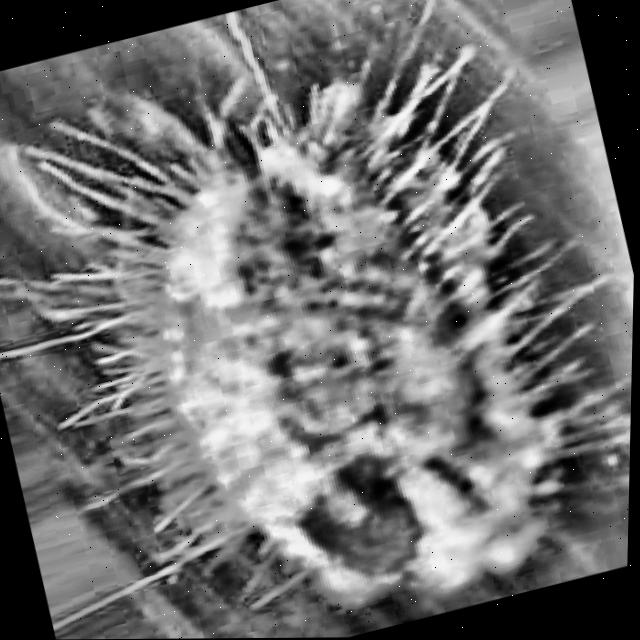Mealy-bug: (15, 17, 622, 640)
